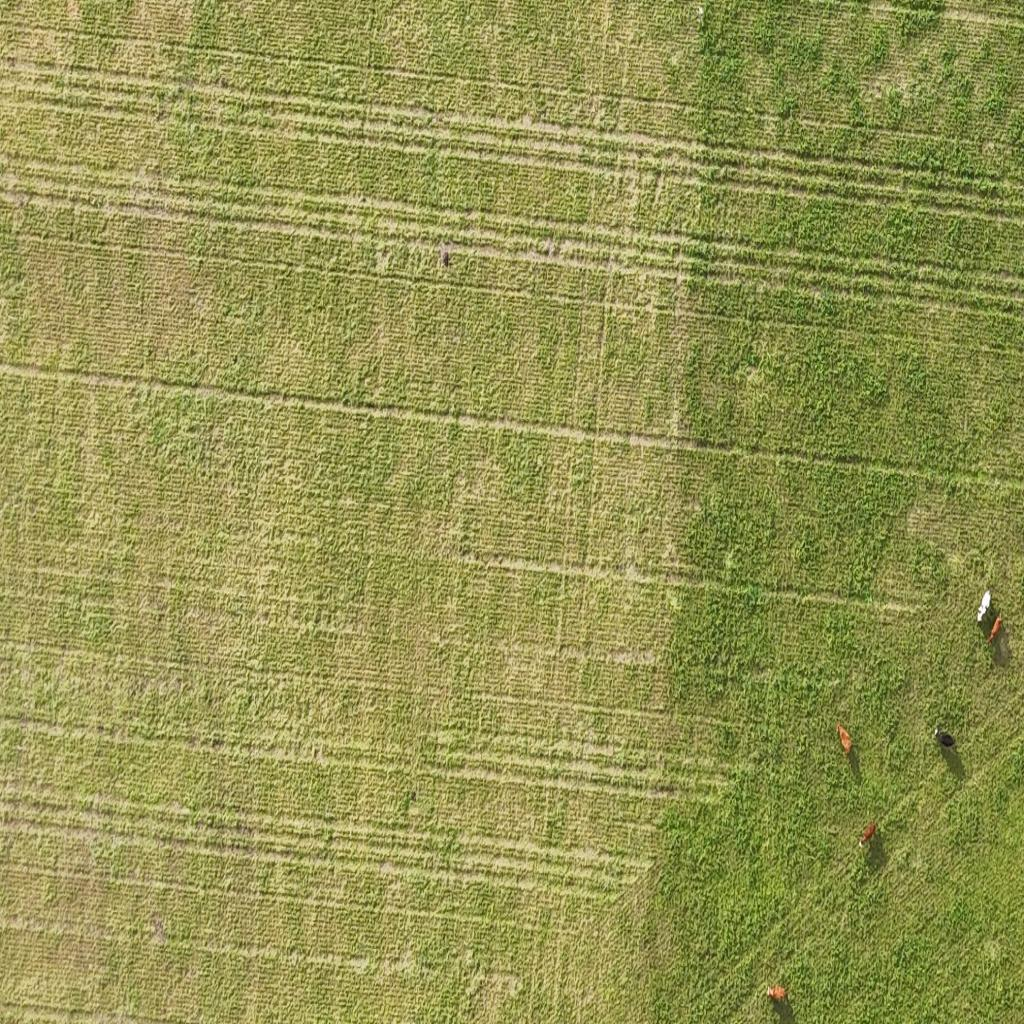cow: (932, 726, 959, 754), (856, 816, 877, 850), (834, 724, 854, 758), (976, 587, 991, 626), (988, 613, 1004, 648), (768, 984, 788, 1002)
